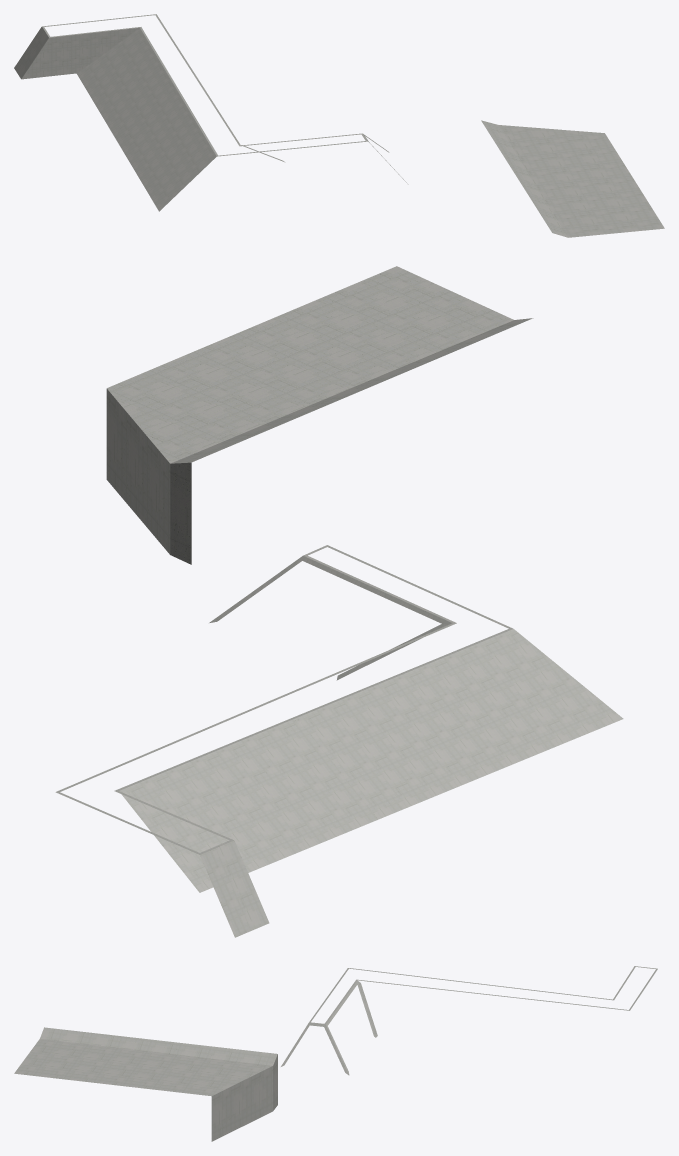
File: kd_stage_1364a3_4_22.glb
3 views of the same model, one above another, from view 1: azimuth 30°, elevation 25°; view 2: azimuth 150°, elevation 25°; view 3: azimuth 270°, elevation 25° (orthographic). The views are drawn at different scales.
Visible parts, largest first — view 1: kd_stage_1364a3_4_22; view 2: kd_stage_1364a3_4_22; view 3: kd_stage_1364a3_4_22.
Part boxes in pixels (x1,y1,x2,y2): kd_stage_1364a3_4_22: [14, 14, 664, 237]; kd_stage_1364a3_4_22: [55, 266, 623, 937]; kd_stage_1364a3_4_22: [14, 966, 657, 1141].
Bounding box in the file's own units: 224 × 33.7 × 389.
1 material, 1 textured.
